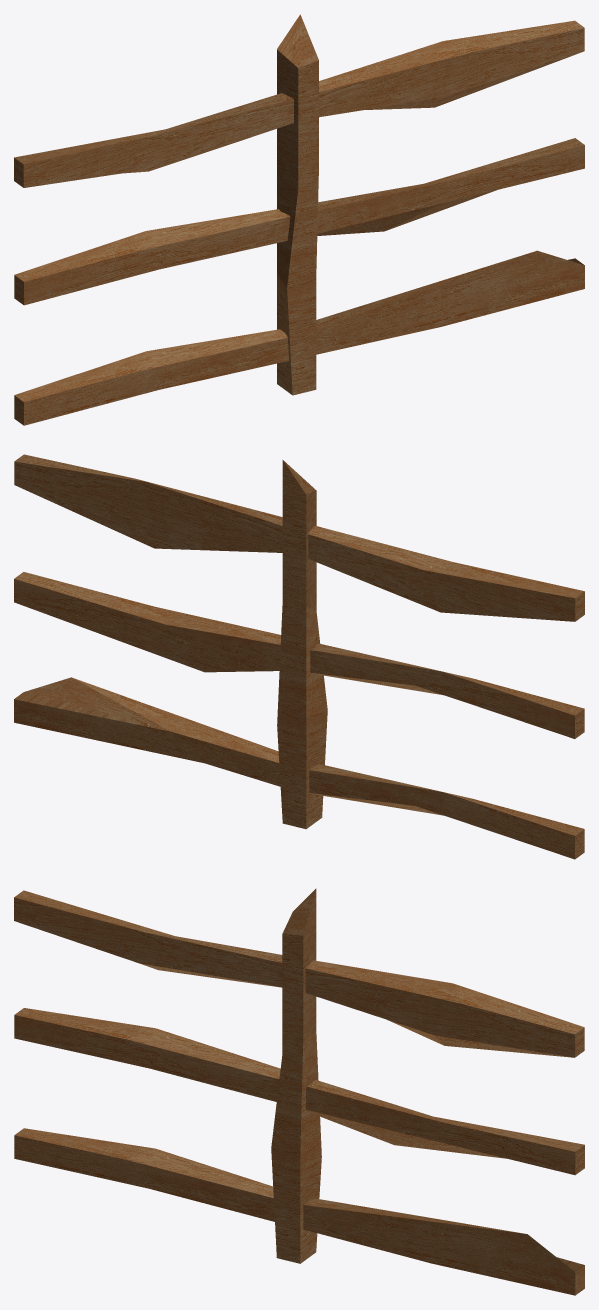
The picture shows the model from 3 angles, top to bottom: view 1: azimuth 30°, elevation 25°; view 2: azimuth 150°, elevation 25°; view 3: azimuth 330°, elevation 25°; orthographic projection.
Parts seen in each view (by area): view 1: vall008_Material_0; view 2: vall008_Material_0; view 3: vall008_Material_0.
Boxes of the visible parts, box(x1,y1,x2,y2) form: vall008_Material_0: box(14, 14, 584, 425); vall008_Material_0: box(14, 454, 584, 859); vall008_Material_0: box(14, 888, 584, 1295).
Bounding box in the file's own units: 2 × 1.24 × 0.098.
Materials: 1 (1 with a texture image).
